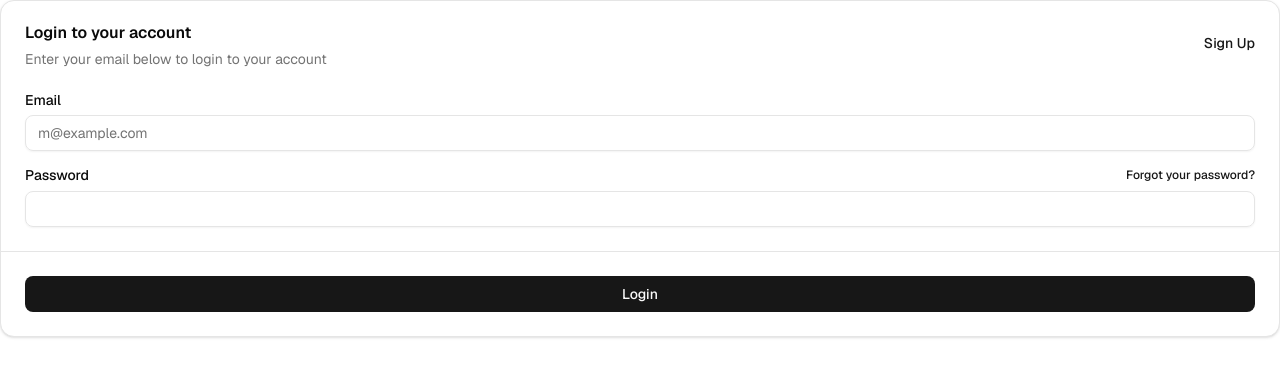
Test: LoginForm › shows server error when loginAction returns error
Type "user@example.com" into the field labelled "Email" at (640, 133), box 25,115 -> 1255,151
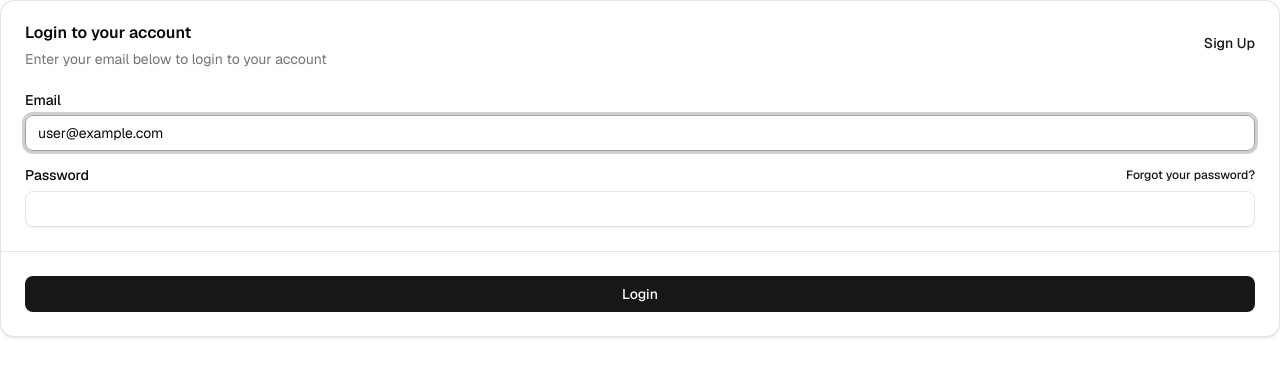
Type "wrong" into the password field labelled "Password" at (640, 209), box 25,191 -> 1255,227
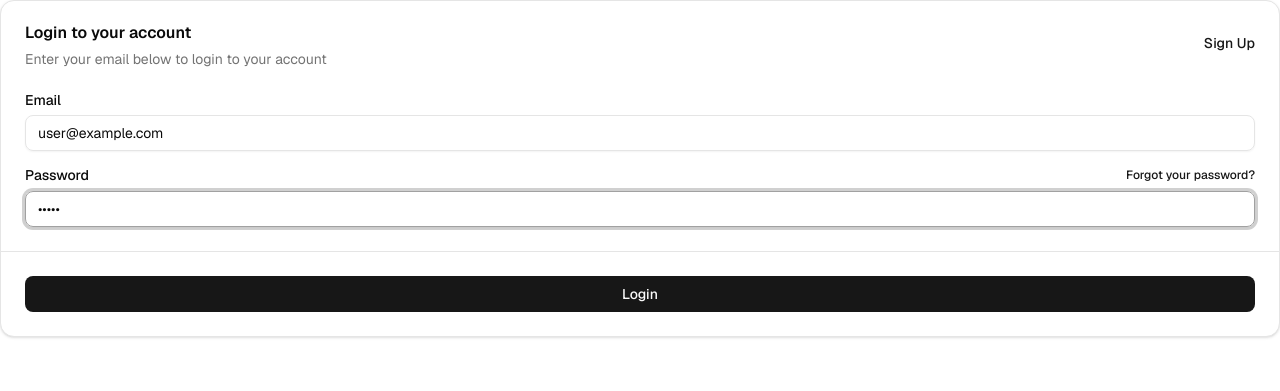
Click the button "Login" at (640, 294), box 25,276 -> 1255,312
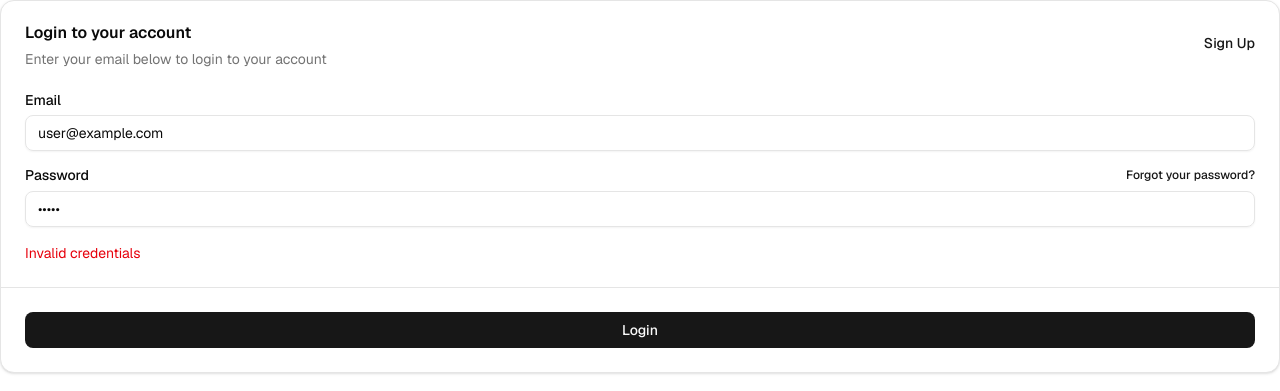
Expected: the text "Invalid credentials" is shown, 25,244 -> 140,262
